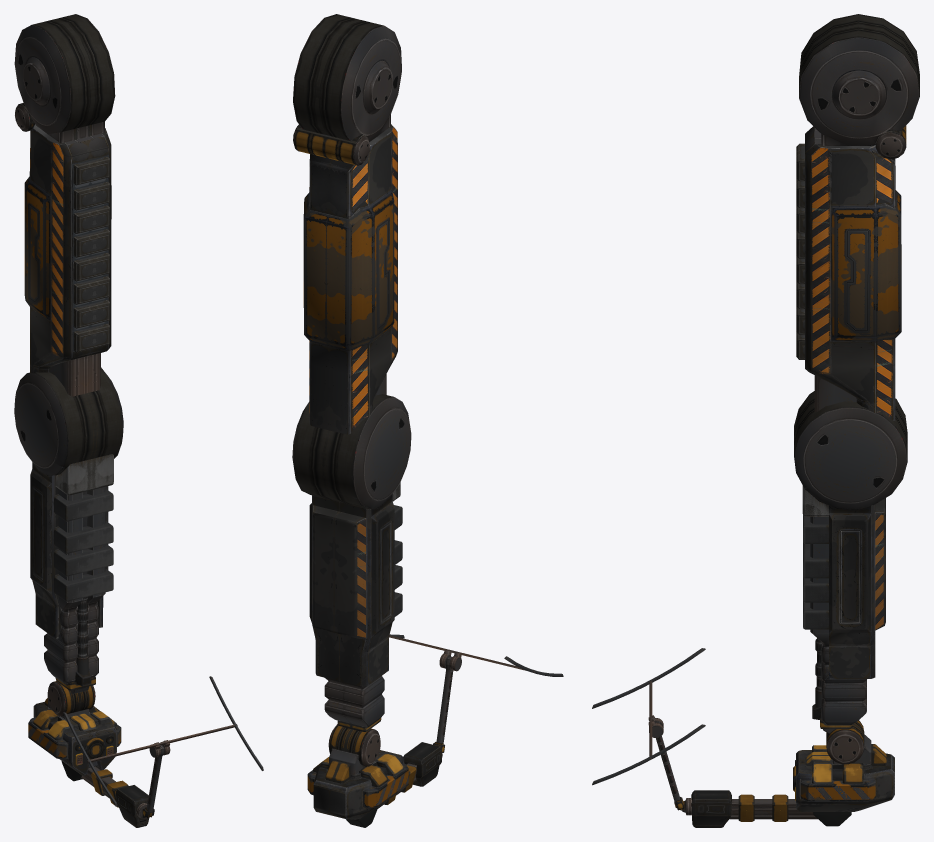
The model's file is Prop_Mechanic_arm_02.FBX.
3 views of the same model, side by side, from view 1: azimuth 30°, elevation 25°; view 2: azimuth 150°, elevation 25°; view 3: azimuth 270°, elevation 25° (orthographic). The views are drawn at different scales.
Visible parts, largest first — view 1: Prop_Mechanic_arm_02_forearm, Prop_Mechanic_arm_02_elbow, Prop_Mechanic_arm_02_head, Prop_Mechanic_arm_02_screen, Prop_Mechanic_arm_02_hand; view 2: Prop_Mechanic_arm_02_forearm, Prop_Mechanic_arm_02_elbow, Prop_Mechanic_arm_02_head, Prop_Mechanic_arm_02_screen, Prop_Mechanic_arm_02_hand; view 3: Prop_Mechanic_arm_02_forearm, Prop_Mechanic_arm_02_elbow, Prop_Mechanic_arm_02_head, Prop_Mechanic_arm_02_screen.
Boxes of the visible parts, x1=… form: Prop_Mechanic_arm_02_forearm: x1=14, y1=14, x2=115, y2=396; Prop_Mechanic_arm_02_elbow: x1=14, y1=367, x2=123, y2=693; Prop_Mechanic_arm_02_head: x1=28, y1=681, x2=149, y2=827; Prop_Mechanic_arm_02_screen: x1=63, y1=676, x2=263, y2=806; Prop_Mechanic_arm_02_hand: x1=142, y1=745, x2=164, y2=818; Prop_Mechanic_arm_02_forearm: x1=293, y1=14, x2=401, y2=434; Prop_Mechanic_arm_02_elbow: x1=292, y1=394, x2=411, y2=731; Prop_Mechanic_arm_02_head: x1=307, y1=724, x2=442, y2=827; Prop_Mechanic_arm_02_screen: x1=389, y1=634, x2=563, y2=676; Prop_Mechanic_arm_02_hand: x1=433, y1=657, x2=453, y2=752; Prop_Mechanic_arm_02_forearm: x1=796, y1=14, x2=919, y2=420; Prop_Mechanic_arm_02_elbow: x1=794, y1=391, x2=907, y2=733; Prop_Mechanic_arm_02_head: x1=682, y1=720, x2=894, y2=827; Prop_Mechanic_arm_02_screen: x1=592, y1=648, x2=705, y2=785.
Size of the model in its own units: 723 by 3464 by 1286.
